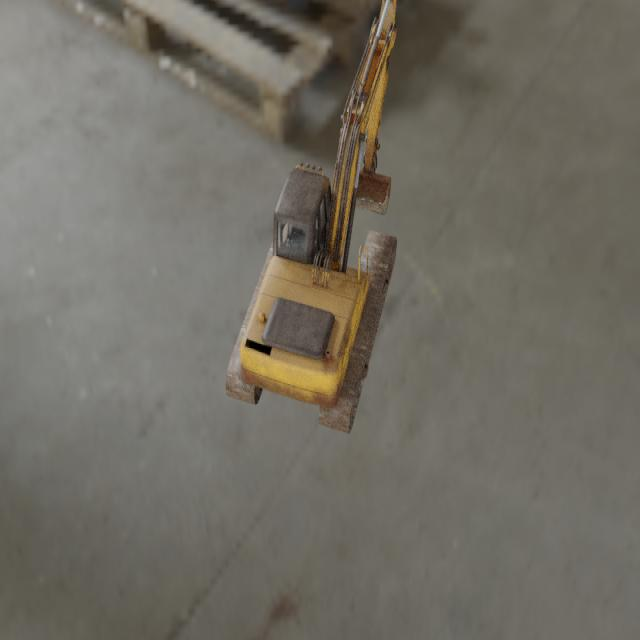excavator: (225, 0, 397, 435)
